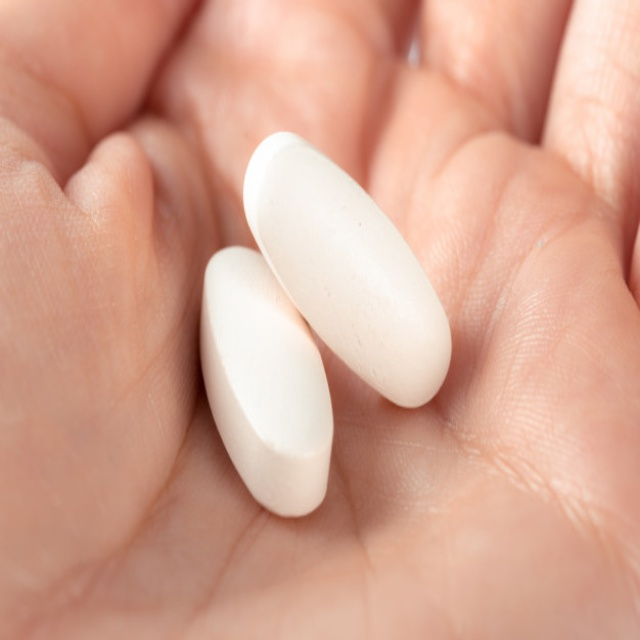pill: (238, 86, 444, 268), (196, 160, 328, 338)
